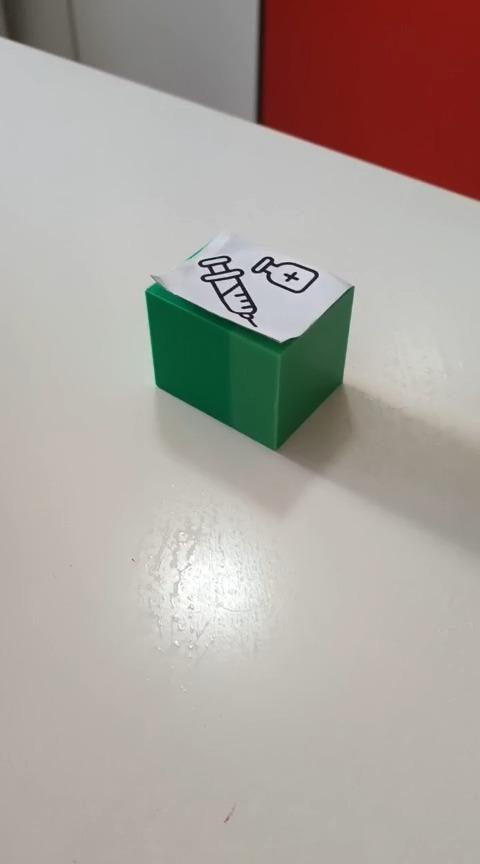antiseptic cream: (143, 228, 356, 451)
